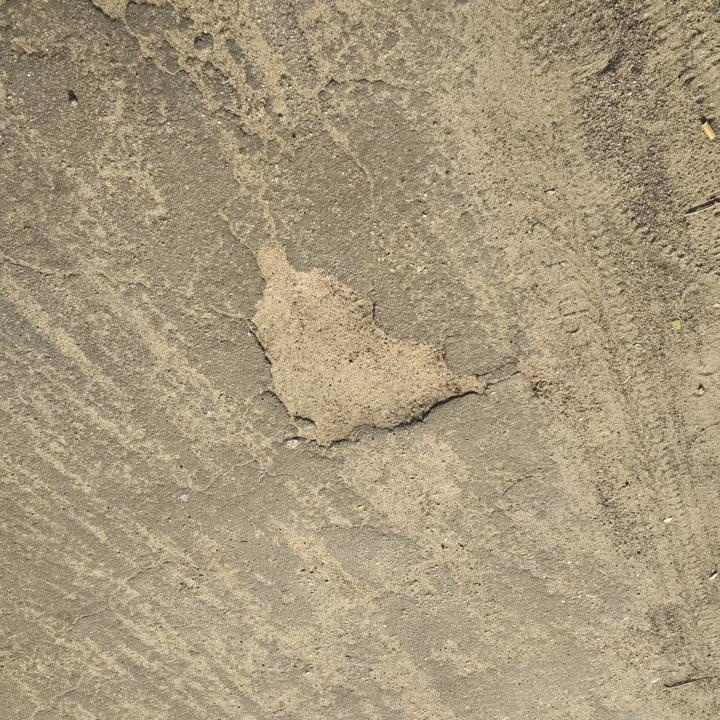pothole: (241, 247, 492, 453)
